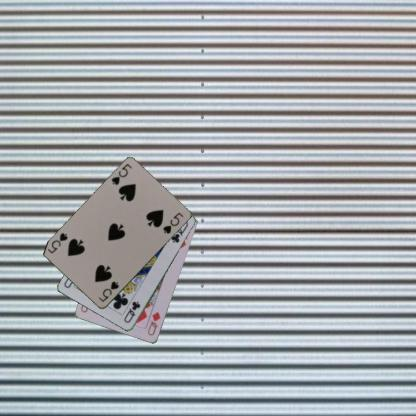5s: (109, 161, 133, 187), (96, 278, 120, 303)
Qc: (121, 299, 142, 324)
Qd: (145, 310, 162, 337)
